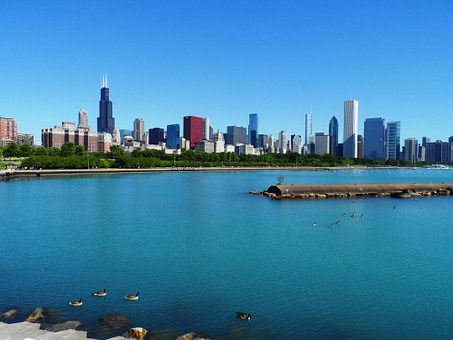willis: (92, 64, 116, 132)
